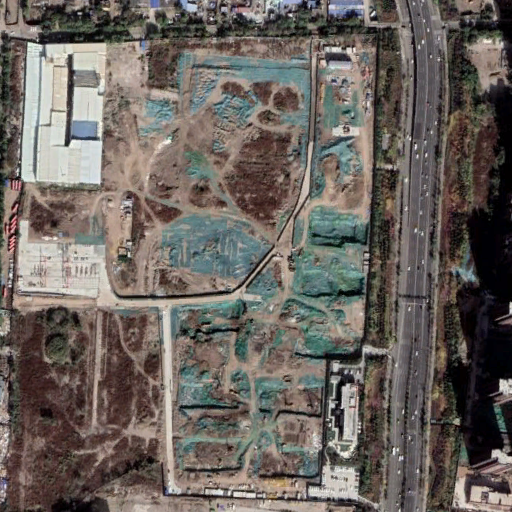cw: (100, 39, 378, 497)
